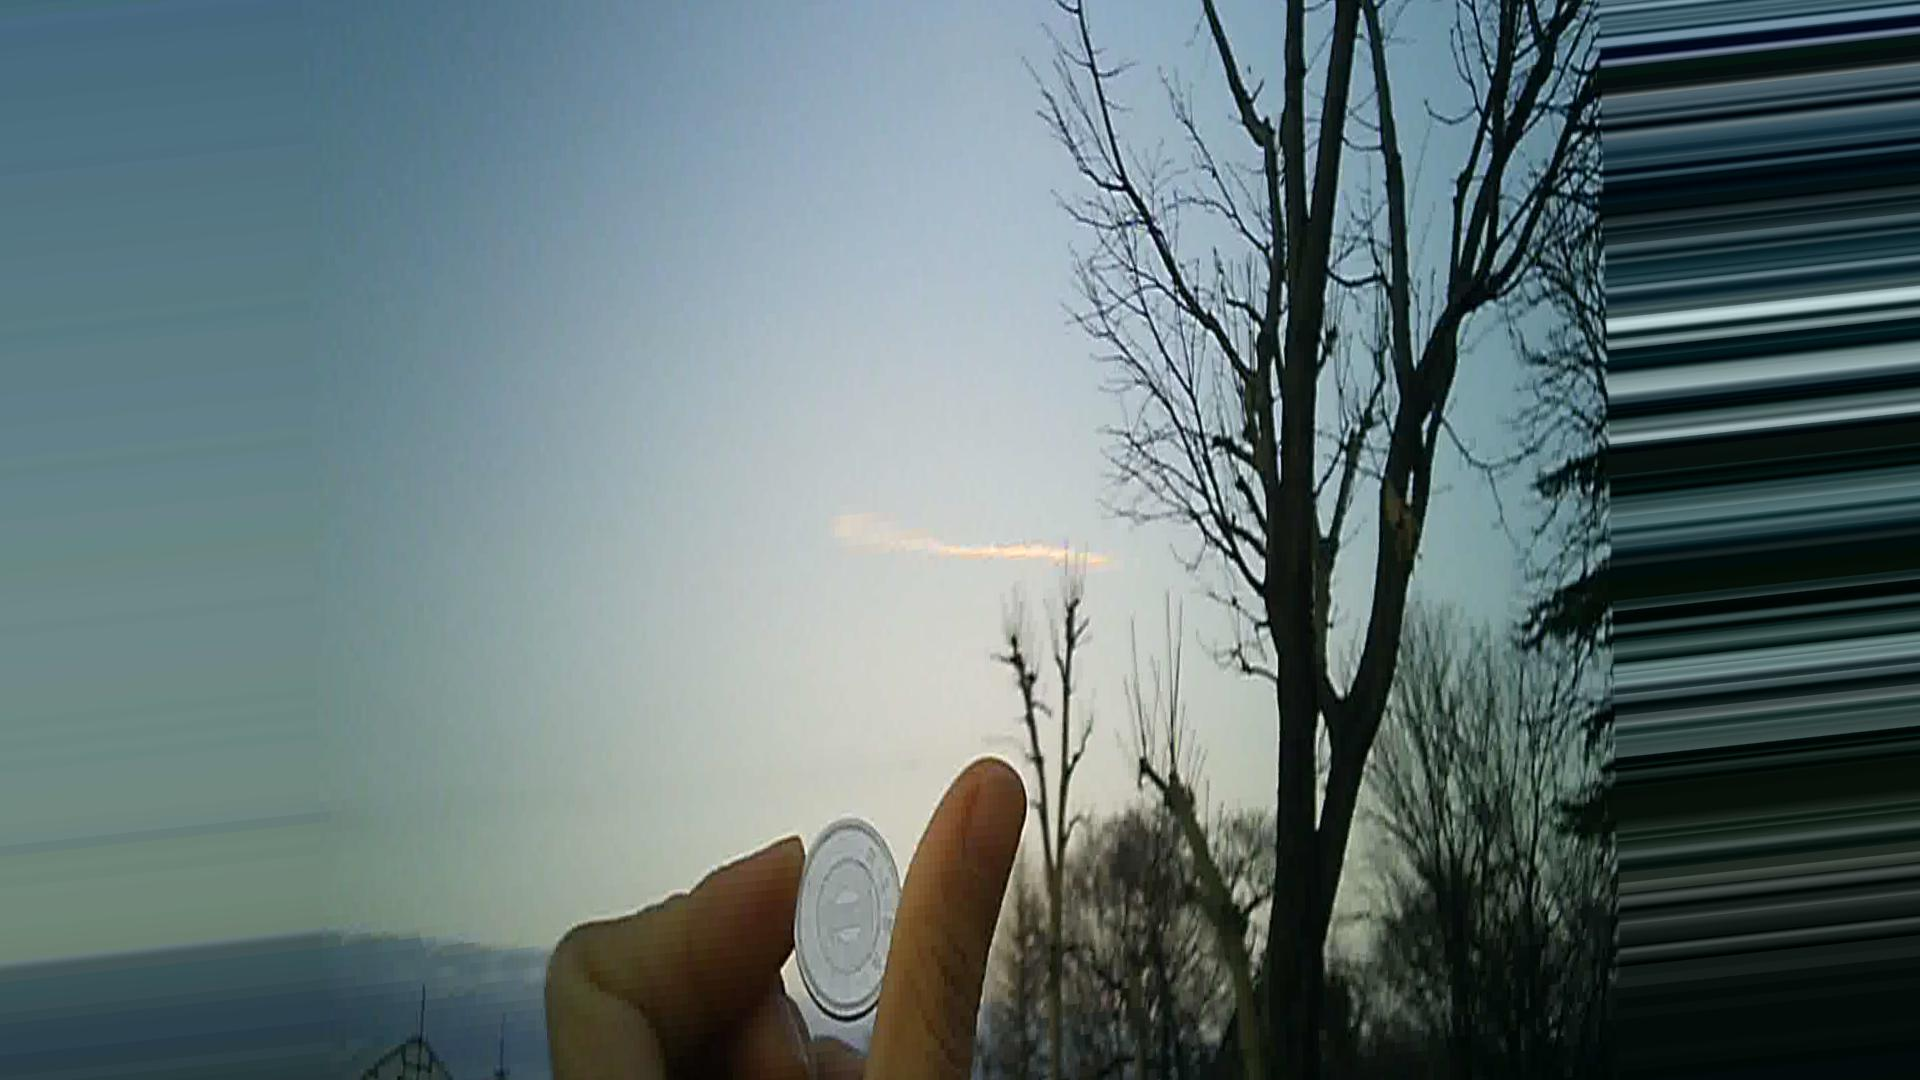1 Yen: (790, 814, 910, 1034)
